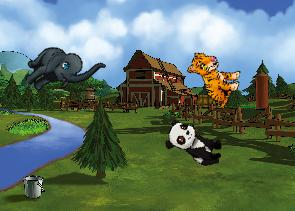elephant: (17, 25, 106, 113)
panda: (161, 117, 228, 170)
tiger: (179, 48, 246, 110)
